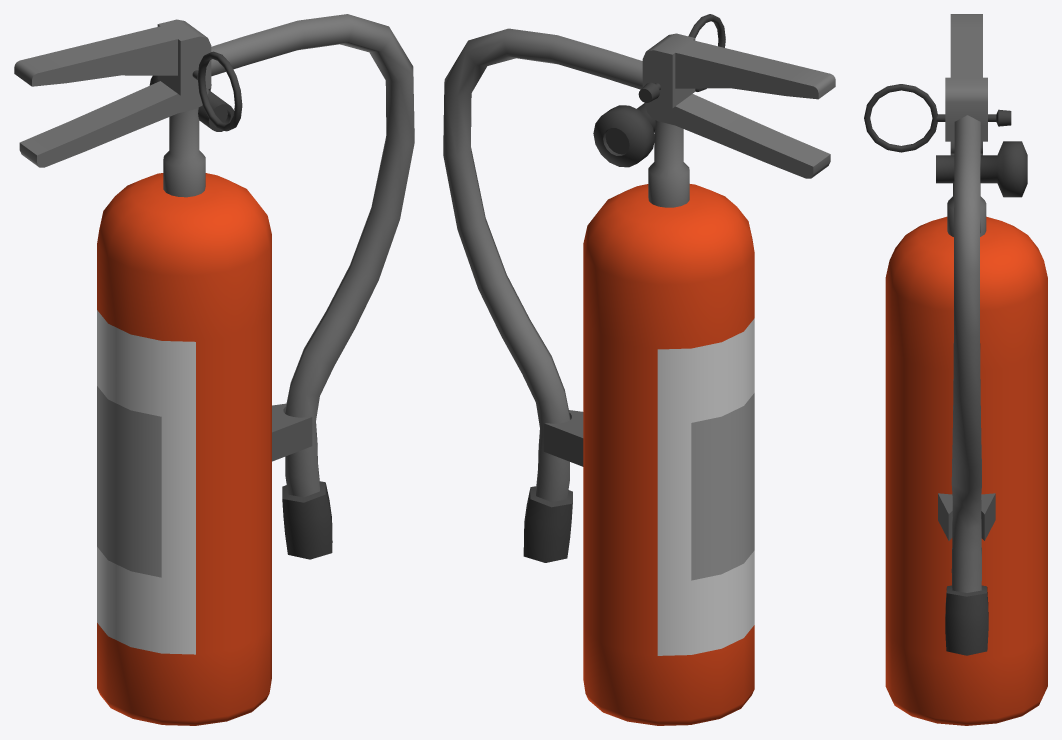
The model's file is Fire Extinguisher.fbx.
The picture shows the model from 3 angles, left to right: view 1: azimuth 30°, elevation 25°; view 2: azimuth 150°, elevation 25°; view 3: azimuth 270°, elevation 25°; orthographic projection. The views are drawn at different scales.
Parts seen in each view (by area): view 1: Fire Extinguisher; view 2: Fire Extinguisher; view 3: Fire Extinguisher.
Boxes of the visible parts, x1,y1,x2,y2 form: Fire Extinguisher: (14,14,414,725); Fire Extinguisher: (443,14,835,725); Fire Extinguisher: (864,14,1047,725).
Bounding box in the file's own units: 0.246 × 0.1087 × 0.3988.
